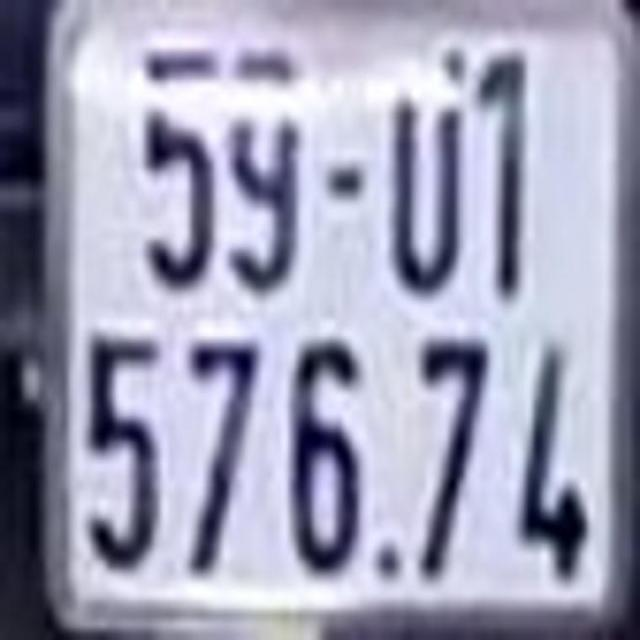1: (476, 34, 544, 309)
4: (515, 302, 597, 588)
5: (128, 45, 220, 296), (79, 313, 165, 576)
6: (280, 302, 370, 580)
7: (181, 306, 264, 576), (407, 294, 482, 582)
9: (225, 36, 302, 310)
U: (378, 34, 467, 301)
